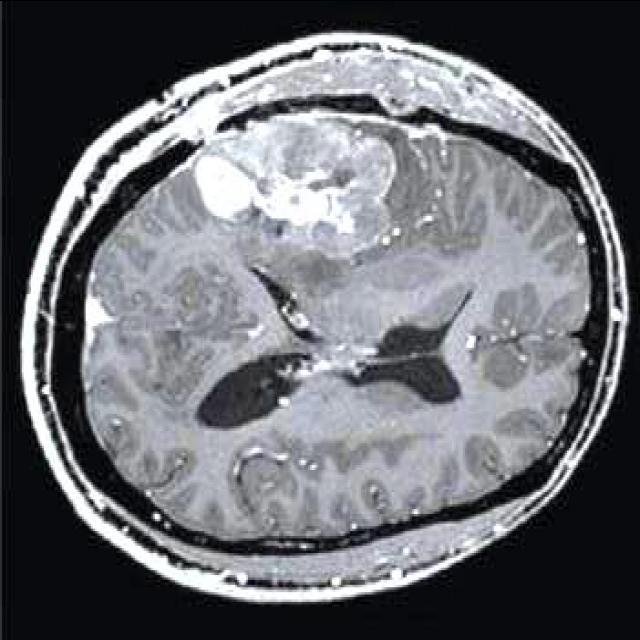tumor: (193, 112, 399, 254)
